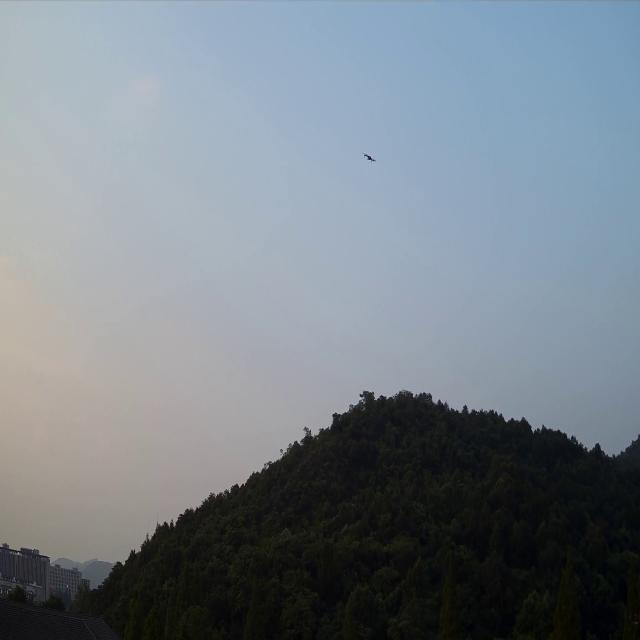UAV: (361, 150, 377, 164)
